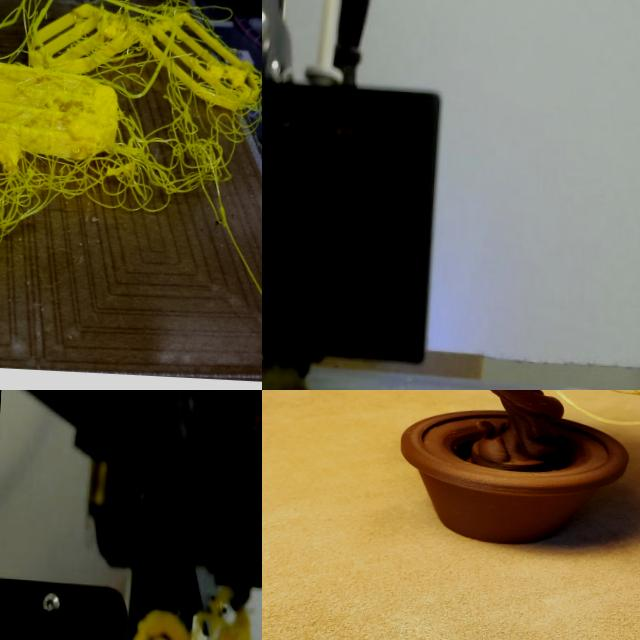spaghetti: (121, 585, 262, 640), (262, 347, 320, 390)
